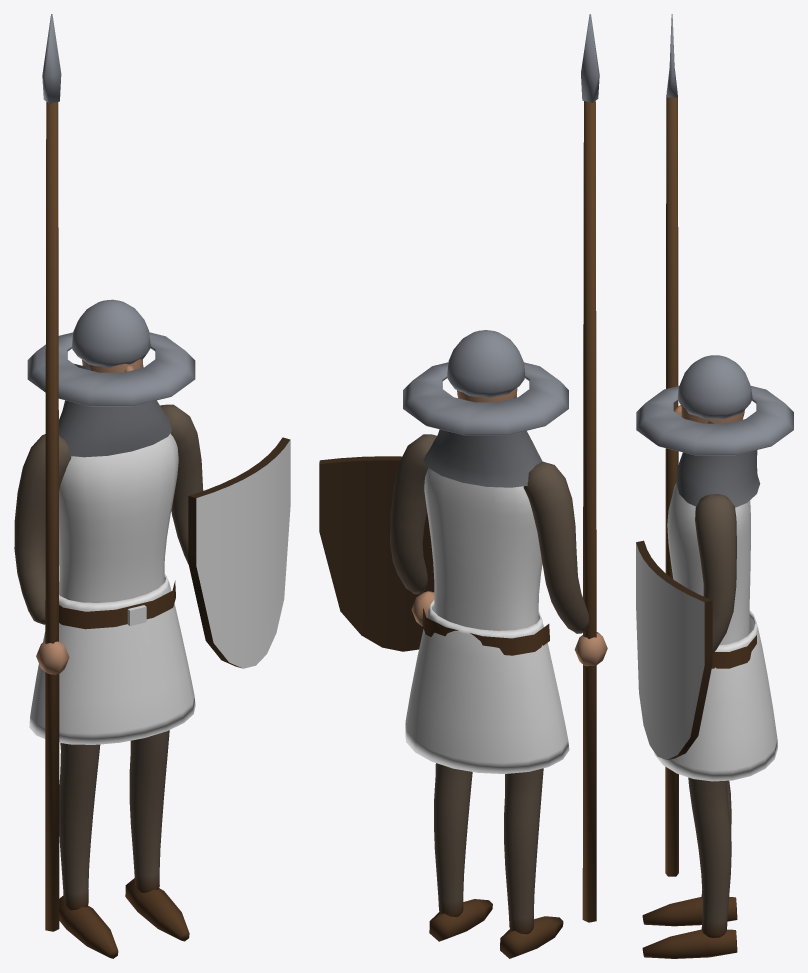
Rendered from infantry_2.glb.
The picture shows the model from 3 angles, left to right: view 1: azimuth 30°, elevation 25°; view 2: azimuth 150°, elevation 25°; view 3: azimuth 270°, elevation 25°; orthographic projection. The views are drawn at different scales.
Visible parts, largest first — view 1: infantry_2; view 2: infantry_2; view 3: infantry_2.
Part boxes in pixels (x1,y1,x2,y2): infantry_2: (14,14,290,958); infantry_2: (319,14,607,958); infantry_2: (636,14,793,958).
Bounding box in the file's own units: 0.8125 × 2.74 × 0.4412.
